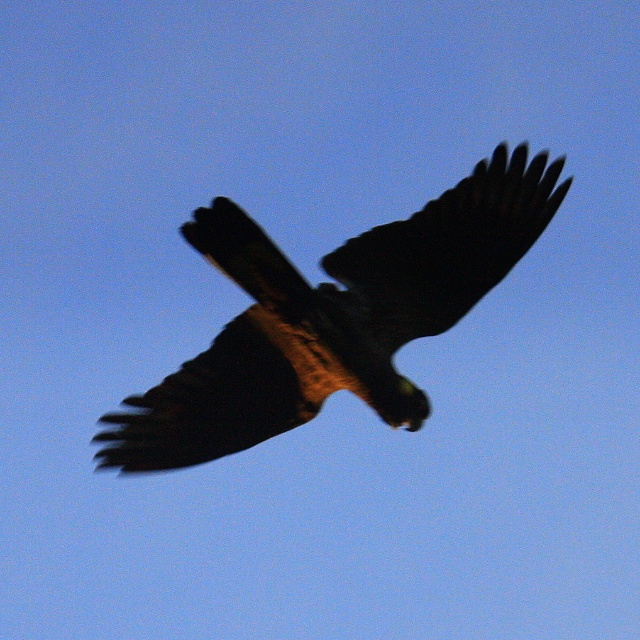Eagle: (87, 141, 574, 479)
